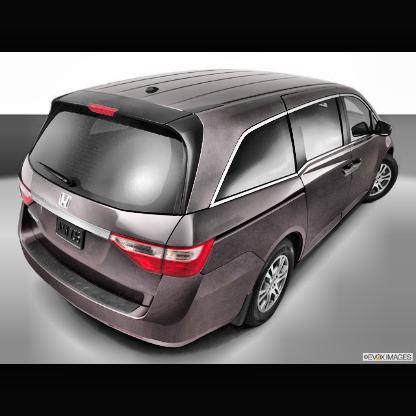Honda Odyssey Minivan 2012: (18, 68, 400, 351)
